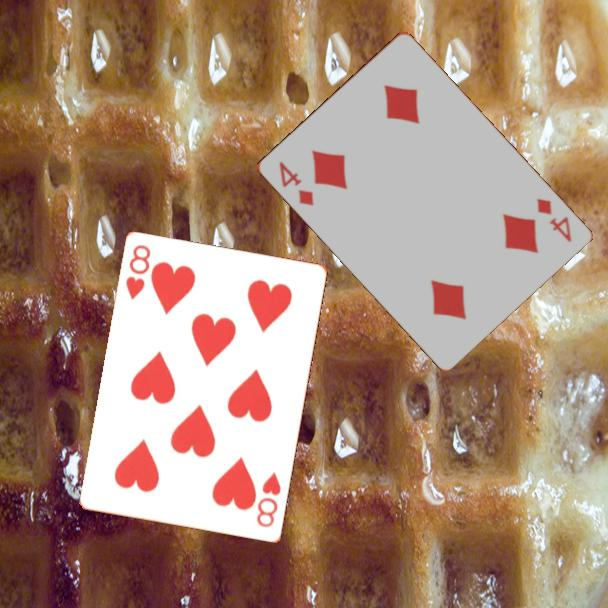d04: (275, 158, 316, 209), (533, 195, 574, 245)
h08: (122, 241, 154, 303), (253, 469, 284, 530)
